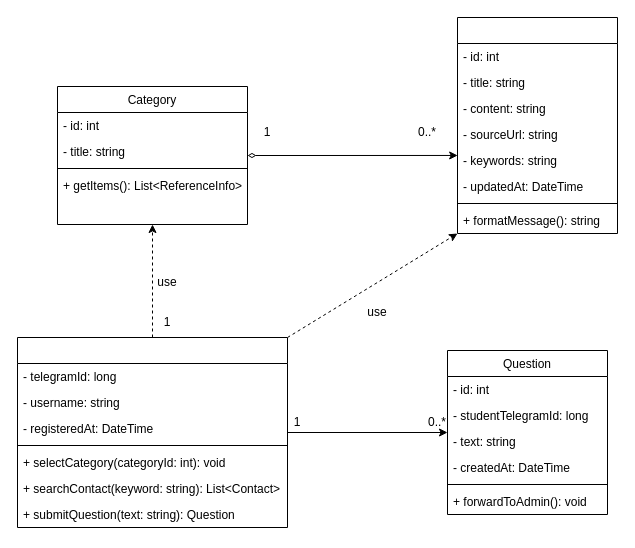
Some shapes in this 635 by 548 pixel diagram are drawn without their labels. Each missing label, with the box of its shape:
ReferenceInfo: (456, 16, 618, 234)
Student: (16, 336, 288, 528)
